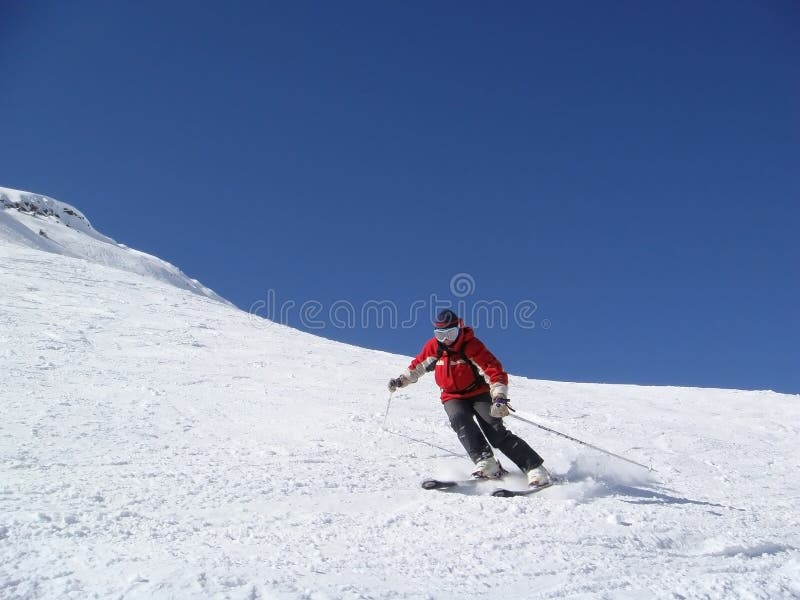skier: (376, 308, 663, 503)
